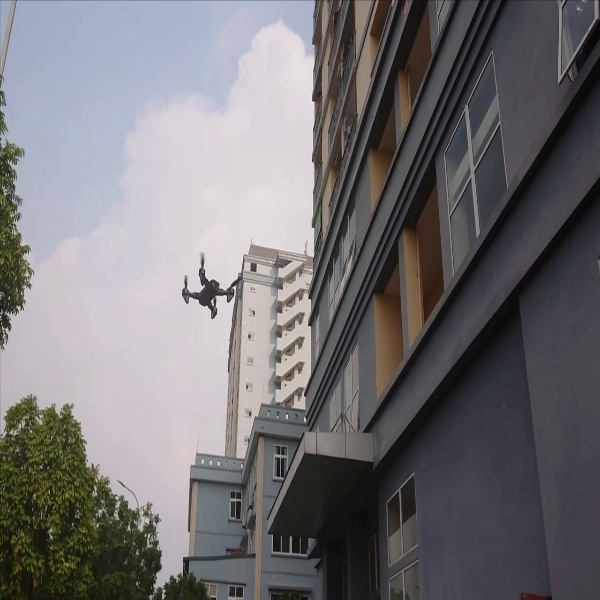drone: (161, 249, 243, 322)
